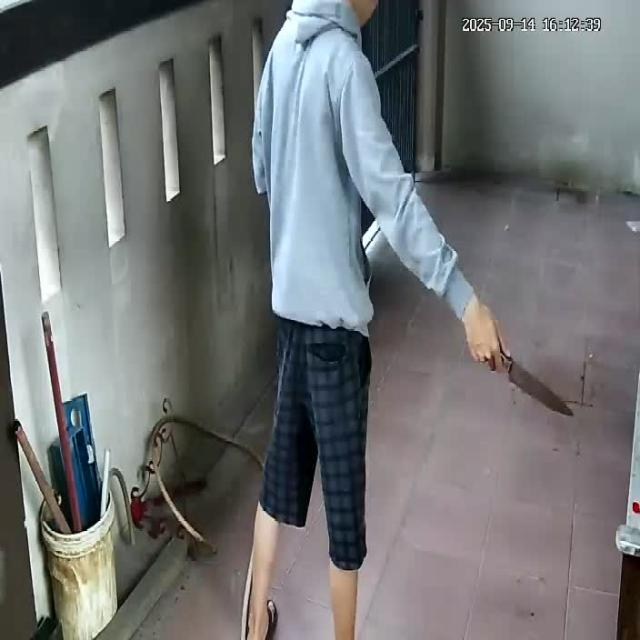senjata_tajam: (502, 352, 578, 422)
